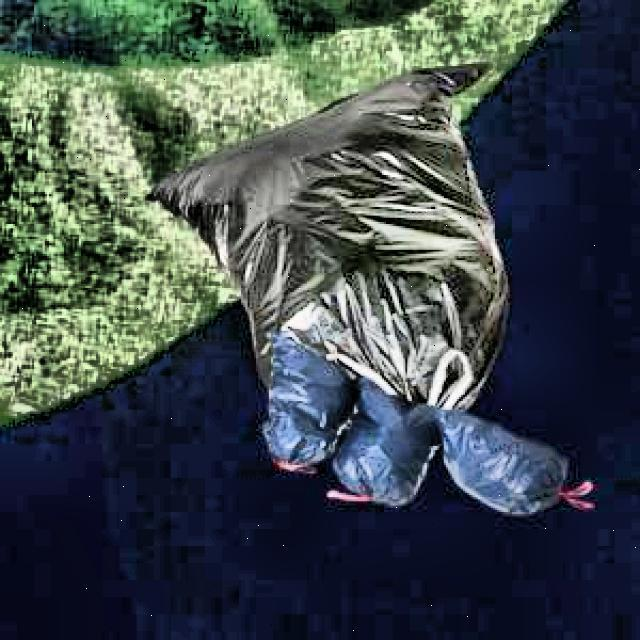Trashbag: (146, 50, 514, 359), (433, 405, 574, 520), (338, 380, 448, 507), (258, 330, 350, 468)
